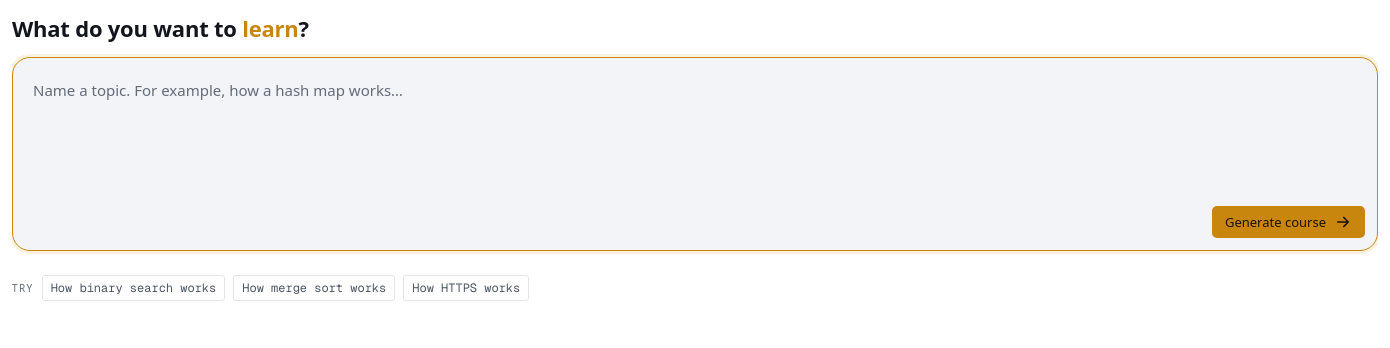
Test: TopicForm › dismisses the empty-topic error as soon as the user types
Click the button "Generate course" at {"x": 1288, "y": 222}, box left=1212, top=206, right=1365, bottom=238
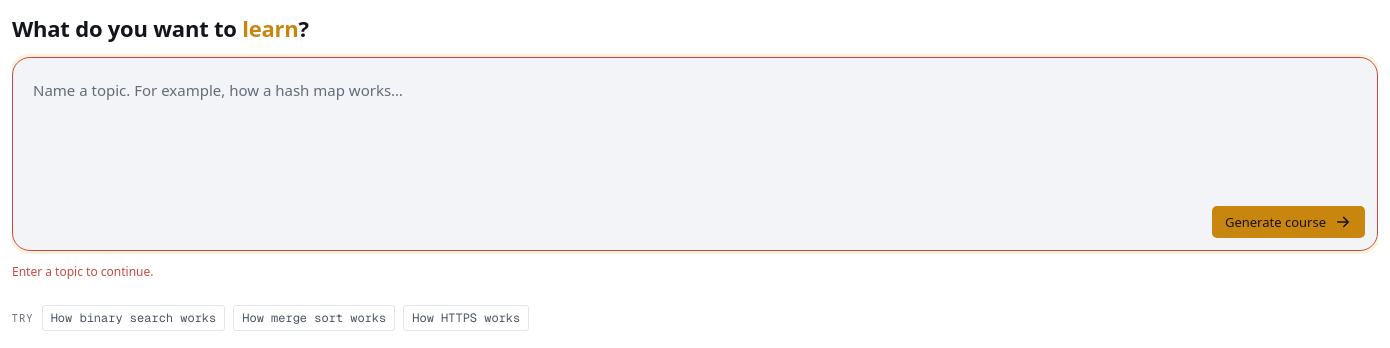
expect the message "Enter a topic to continue." is shown: met, box left=12, top=263, right=154, bottom=280
Type "g" into the text box labelled "topic" at {"x": 695, "y": 132}, box left=13, top=58, right=1377, bottom=206
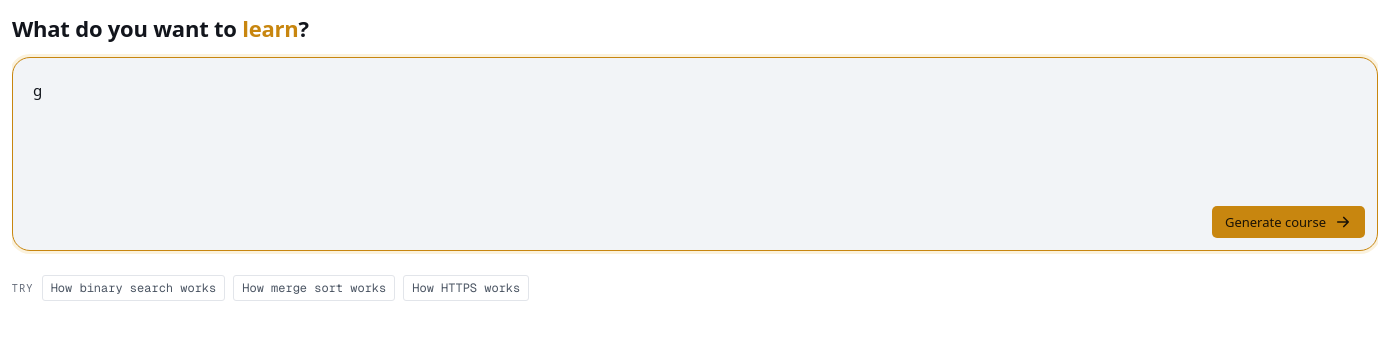
expect the message "Enter a topic to continue." is gone: met
